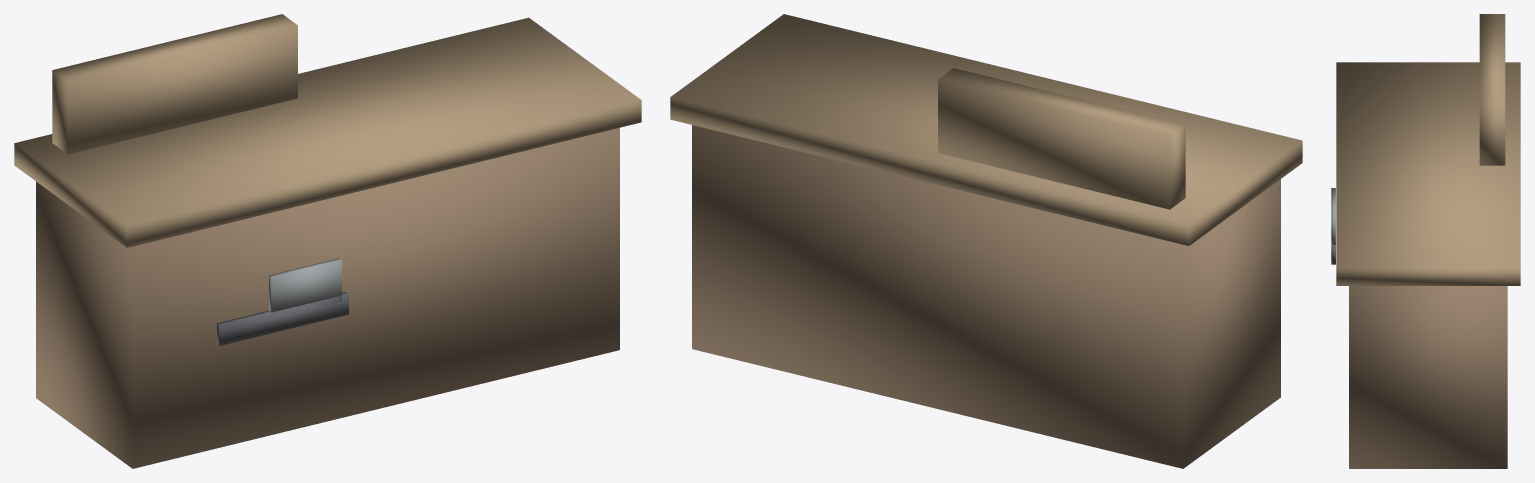
Rendered from security_desk__weathered.glb.
The picture shows the model from 3 angles, left to right: view 1: azimuth 30°, elevation 25°; view 2: azimuth 150°, elevation 25°; view 3: azimuth 270°, elevation 25°; orthographic projection. The views are drawn at different scales.
Visible parts, largest first — view 1: world; view 2: world; view 3: world.
Part boxes in pixels (left/top/right/bottom): world: left=14, top=14, right=641, bottom=468; world: left=670, top=14, right=1302, bottom=468; world: left=1331, top=14, right=1520, bottom=468.
Bounding box in the file's own units: 1.9 × 1.15 × 0.7391.
